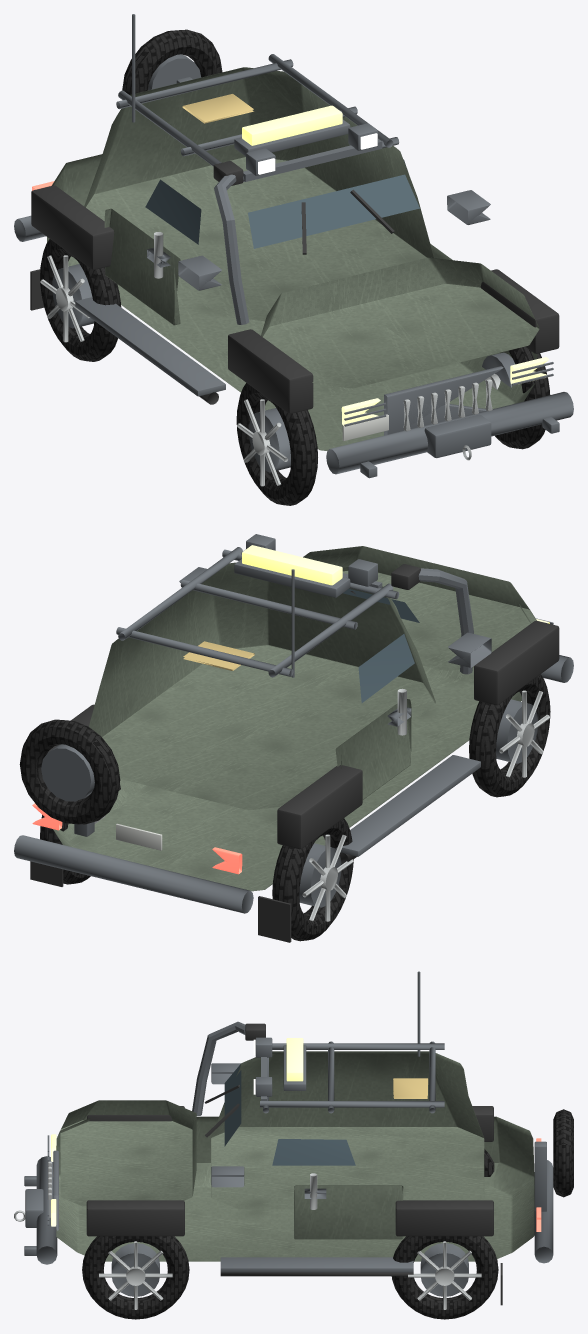
The model's file is javali_vb4.glb.
3 renders of one model, top to bottom at view 1: azimuth 30°, elevation 25°; view 2: azimuth 150°, elevation 25°; view 3: azimuth 270°, elevation 25°, orthographic. The views are drawn at different scales.
Parts seen in each view (by area): view 1: javali_vb4_paint_olive, javali_vb4_steel_dark, javali_vb4_rubber_v, javali_vb4_glass_tinted, javali_vb4_WHEEL_roda_esq_d, javali_vb4_WHEEL_roda_esq_t, javali_vb4_lamp_amber, javali_vb4_tire, javali_vb4_WHEEL_roda_dir_d, javali_vb4_metal_brushed, javali_vb4_gold_v, javali_vb4_ceramic; view 2: javali_vb4_paint_olive, javali_vb4_steel_dark, javali_vb4_rubber_v, javali_vb4_WHEEL_roda_esq_d, javali_vb4_WHEEL_roda_esq_t, javali_vb4_tire, javali_vb4_glass_tinted, javali_vb4_lamp_amber, javali_vb4_lamp_red, javali_vb4_gold_v, javali_vb4_ceramic, javali_vb4_WHEEL_roda_dir_t; view 3: javali_vb4_paint_olive, javali_vb4_steel_dark, javali_vb4_rubber_v, javali_vb4_WHEEL_roda_dir_d, javali_vb4_WHEEL_roda_dir_t, javali_vb4_glass_tinted, javali_vb4_tire, javali_vb4_lamp_amber, javali_vb4_gold_v, javali_vb4_metal_brushed.
Part boxes in pixels (x1,y1,x2,y2): javali_vb4_paint_olive: (47,67,539,450); javali_vb4_steel_dark: (14,14,573,478); javali_vb4_rubber_v: (30,161,559,413); javali_vb4_glass_tinted: (145,159,419,248); javali_vb4_WHEEL_roda_esq_d: (236,383,317,505); javali_vb4_WHEEL_roda_esq_t: (40,239,121,361); javali_vb4_lamp_amber: (242,105,548,425); javali_vb4_tire: (122,29,222,94); javali_vb4_WHEEL_roda_dir_d: (482,346,550,449); javali_vb4_metal_brushed: (154,232,492,460); javali_vb4_gold_v: (182,94,253,123); javali_vb4_ceramic: (342,414,388,440); javali_vb4_paint_olive: (53,546,536,891); javali_vb4_steel_dark: (14,534,573,913); javali_vb4_rubber_v: (30,564,559,942); javali_vb4_WHEEL_roda_esq_d: (469,674,550,797); javali_vb4_WHEEL_roda_esq_t: (272,818,353,941); javali_vb4_tire: (19,719,120,824); javali_vb4_glass_tinted: (343,588,419,702); javali_vb4_lamp_amber: (242,545,549,623); javali_vb4_lamp_red: (32,803,242,874); javali_vb4_gold_v: (183,641,254,670); javali_vb4_ceramic: (116,823,162,850); javali_vb4_WHEEL_roda_dir_t: (40,783,120,884); javali_vb4_paint_olive: (56,1051,534,1261); javali_vb4_steel_dark: (24,971,553,1272); javali_vb4_rubber_v: (86,1023,502,1305); javali_vb4_WHEEL_roda_dir_d: (82,1236,189,1319); javali_vb4_WHEEL_roda_dir_t: (391,1236,498,1319); javali_vb4_glass_tinted: (224,1064,355,1165); javali_vb4_tire: (553,1109,573,1197); javali_vb4_lamp_amber: (51,1038,303,1226); javali_vb4_gold_v: (393,1078,428,1098); javali_vb4_metal_brushed: (14,1161,317,1221).
Bounding box in the file's own units: 2.57 × 2.9 × 5.42.
11 materials, 2 textured.
